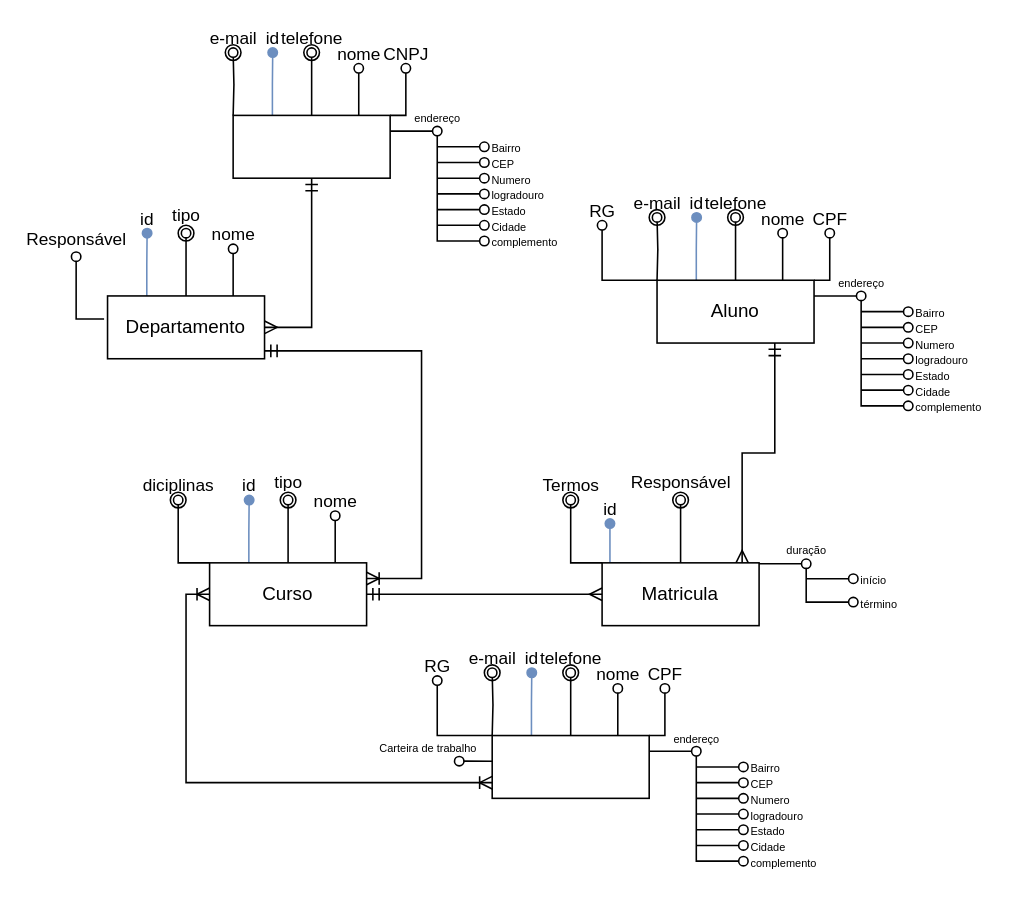
Image size: 1010x901. Some labels were removed from this diagram. Here are the shapes that lost their labels. From the top down, the centre of each, then its label:
the point at 311,146: Universidade
the point at 570,766: Professor
